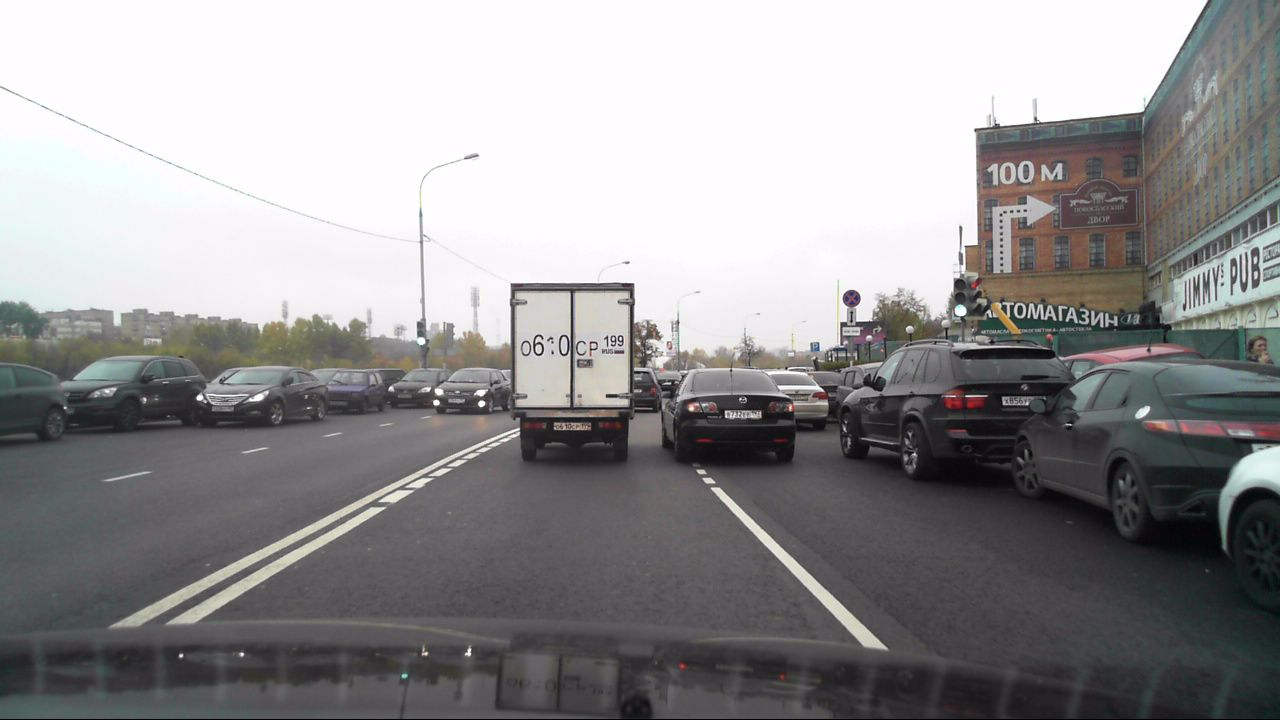No Parking: (841, 288, 860, 307)
